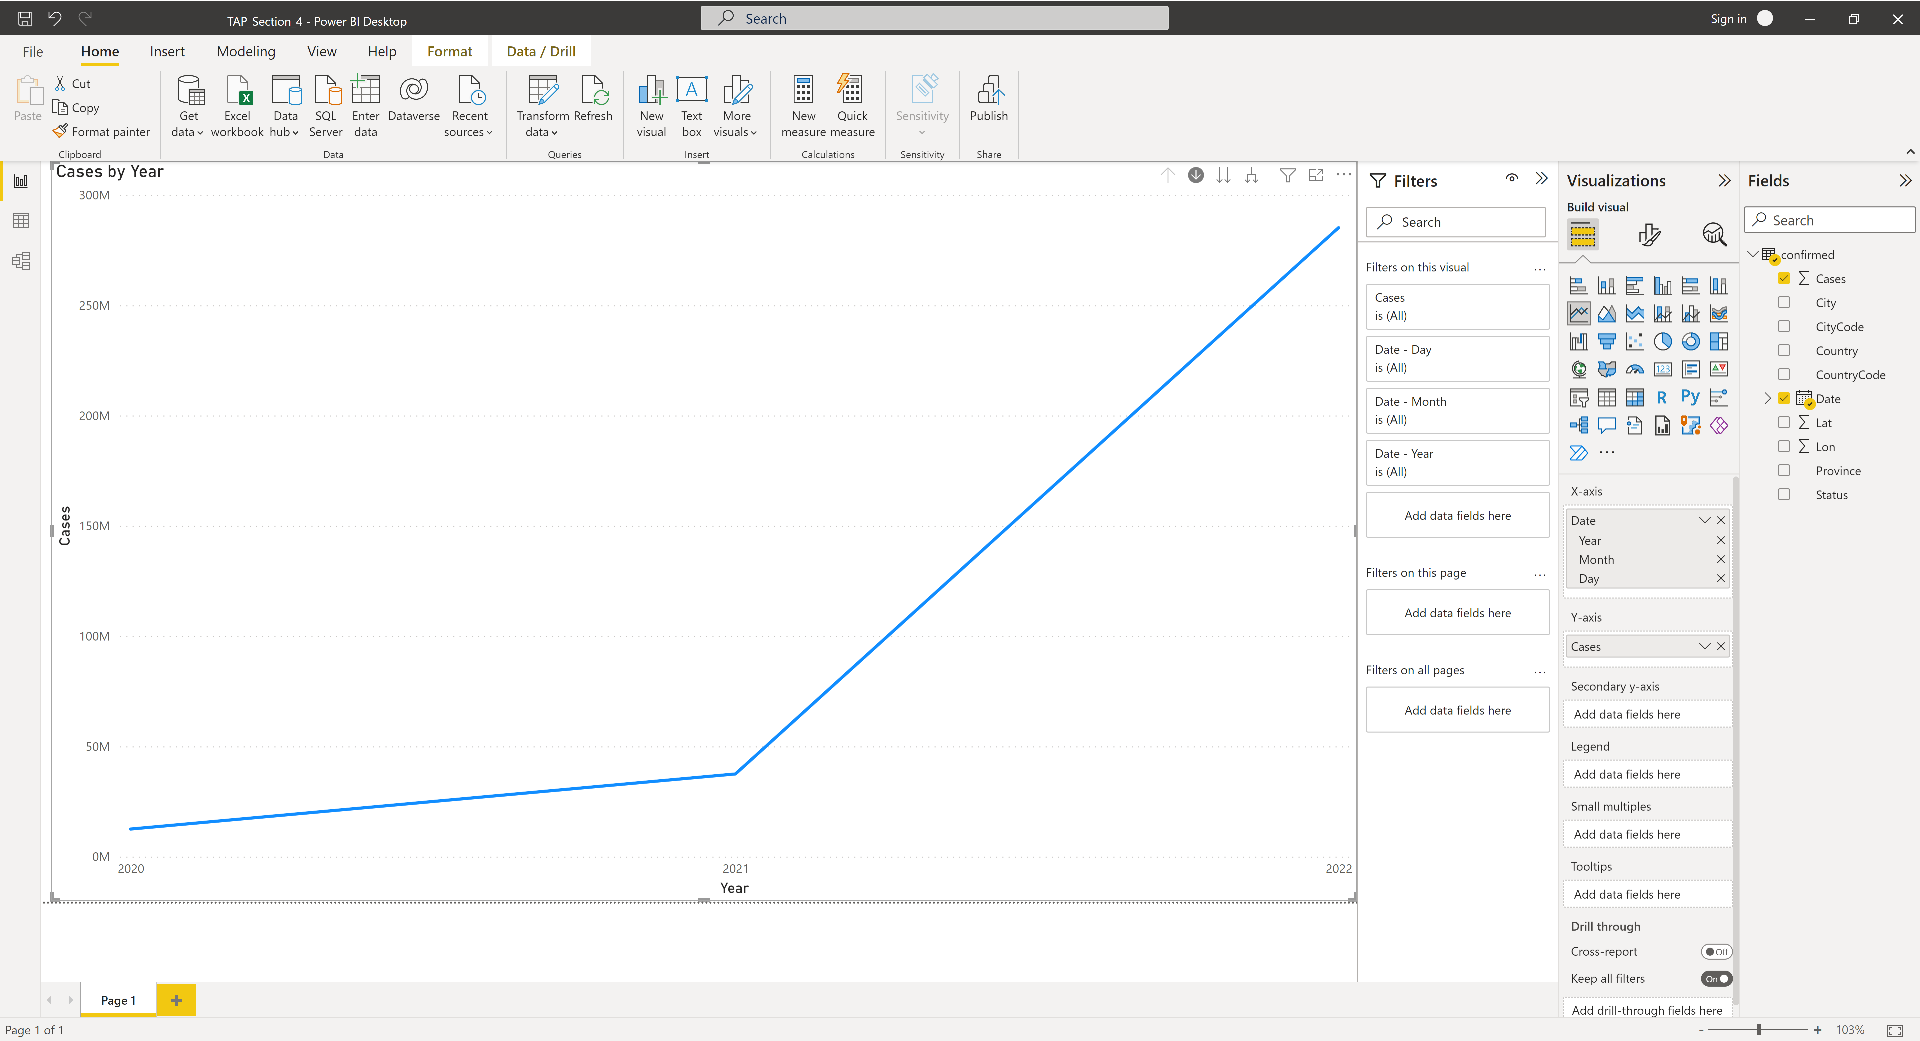

The page's visual inventory and layout, read from the dashboard file:
{"tool":"powerbi","page":{"name":"Page 1","canvas":[1280,720],"ordinal":0},"visuals":[{"type":"lineChart","fields":{"Y":["Sum(confirmed.Cases)"],"Category":["confirmed.Date.Variation.Date Hierarchy.Year","confirmed.Date.Variation.Date Hierarchy.Month","confirmed.Date.Variation.Date Hierarchy.Day"]},"box":[9.7,0,1270.3,719.8],"z":0}]}

Visuals, with their boxes on the page's 1280x720 design canvas (x1, y1, x2, y2). These are canvas units, not pixel positions in the 1920x1041 screenshot, which may show the page scaled, cropped or inside an application window:
lineChart - Sum(confirmed.Cases) x confirmed.Date.Variation.Date Hierarchy.Year: region(10, 0, 1280, 720)
